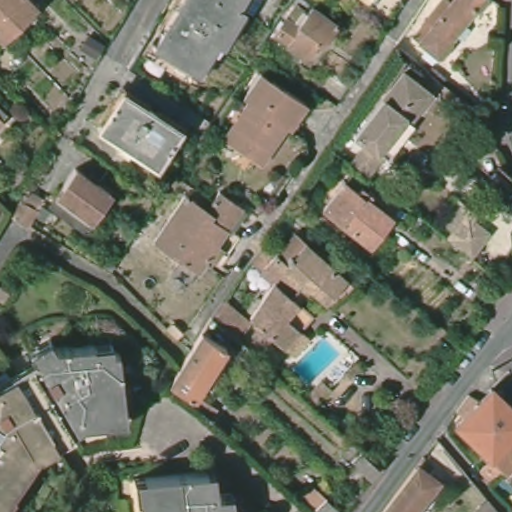pool: (286, 337, 340, 388)
